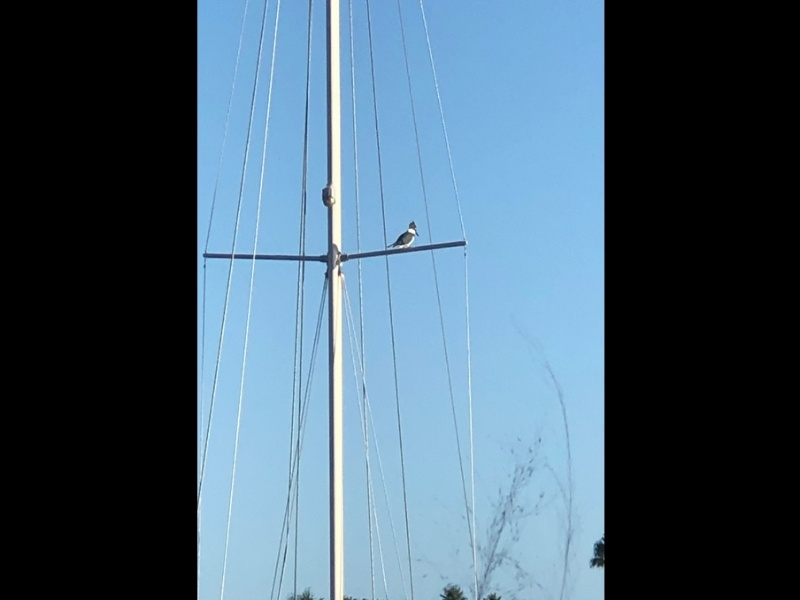kingfisher: (384, 219, 421, 255)
